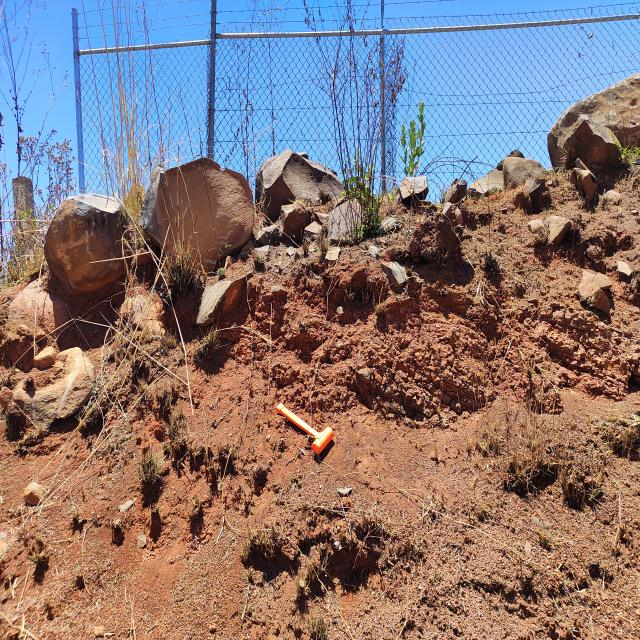Orange_hammer: (275, 402, 335, 456)
